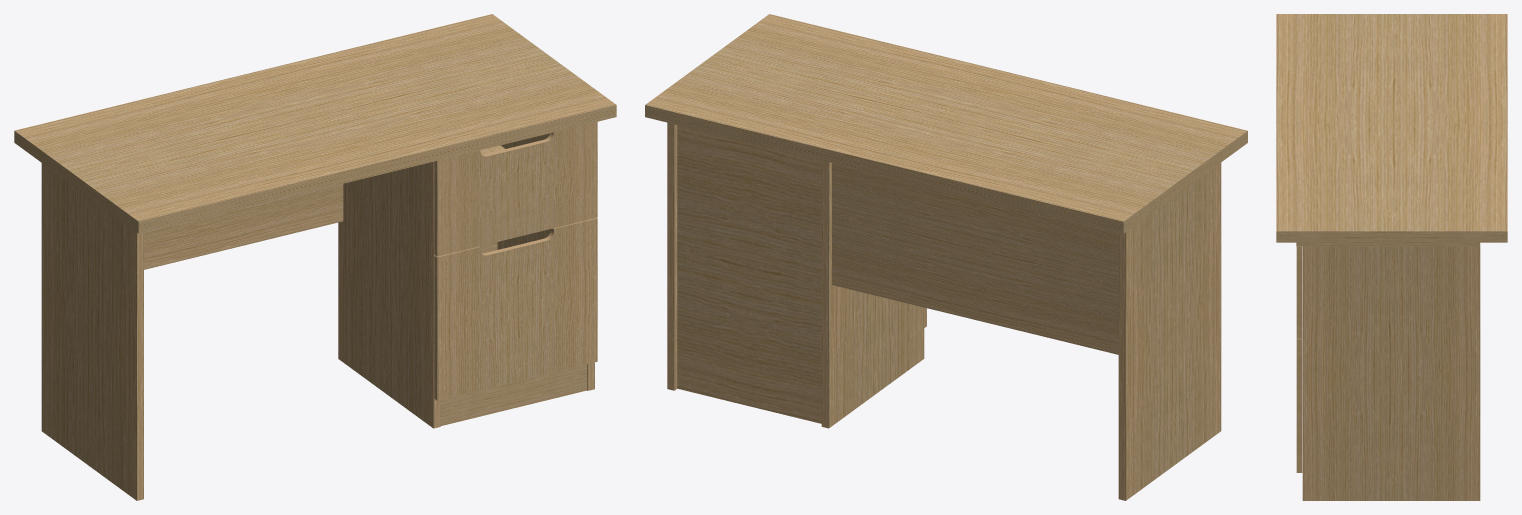
File: Office table.FBX
3 views of the same model, side by side, from view 1: azimuth 30°, elevation 25°; view 2: azimuth 150°, elevation 25°; view 3: azimuth 270°, elevation 25° (orthographic). The views are drawn at different scales.
Parts seen in each view (by area): view 1: office table; view 2: office table; view 3: office table.
Boxes of the visible parts, x1,y1,x2,y2 form: office table: (14, 14, 616, 500); office table: (645, 14, 1247, 500); office table: (1276, 14, 1507, 500).
Size of the model in its own units: 133 by 77.99 by 59.99.
1 material, 1 textured.
